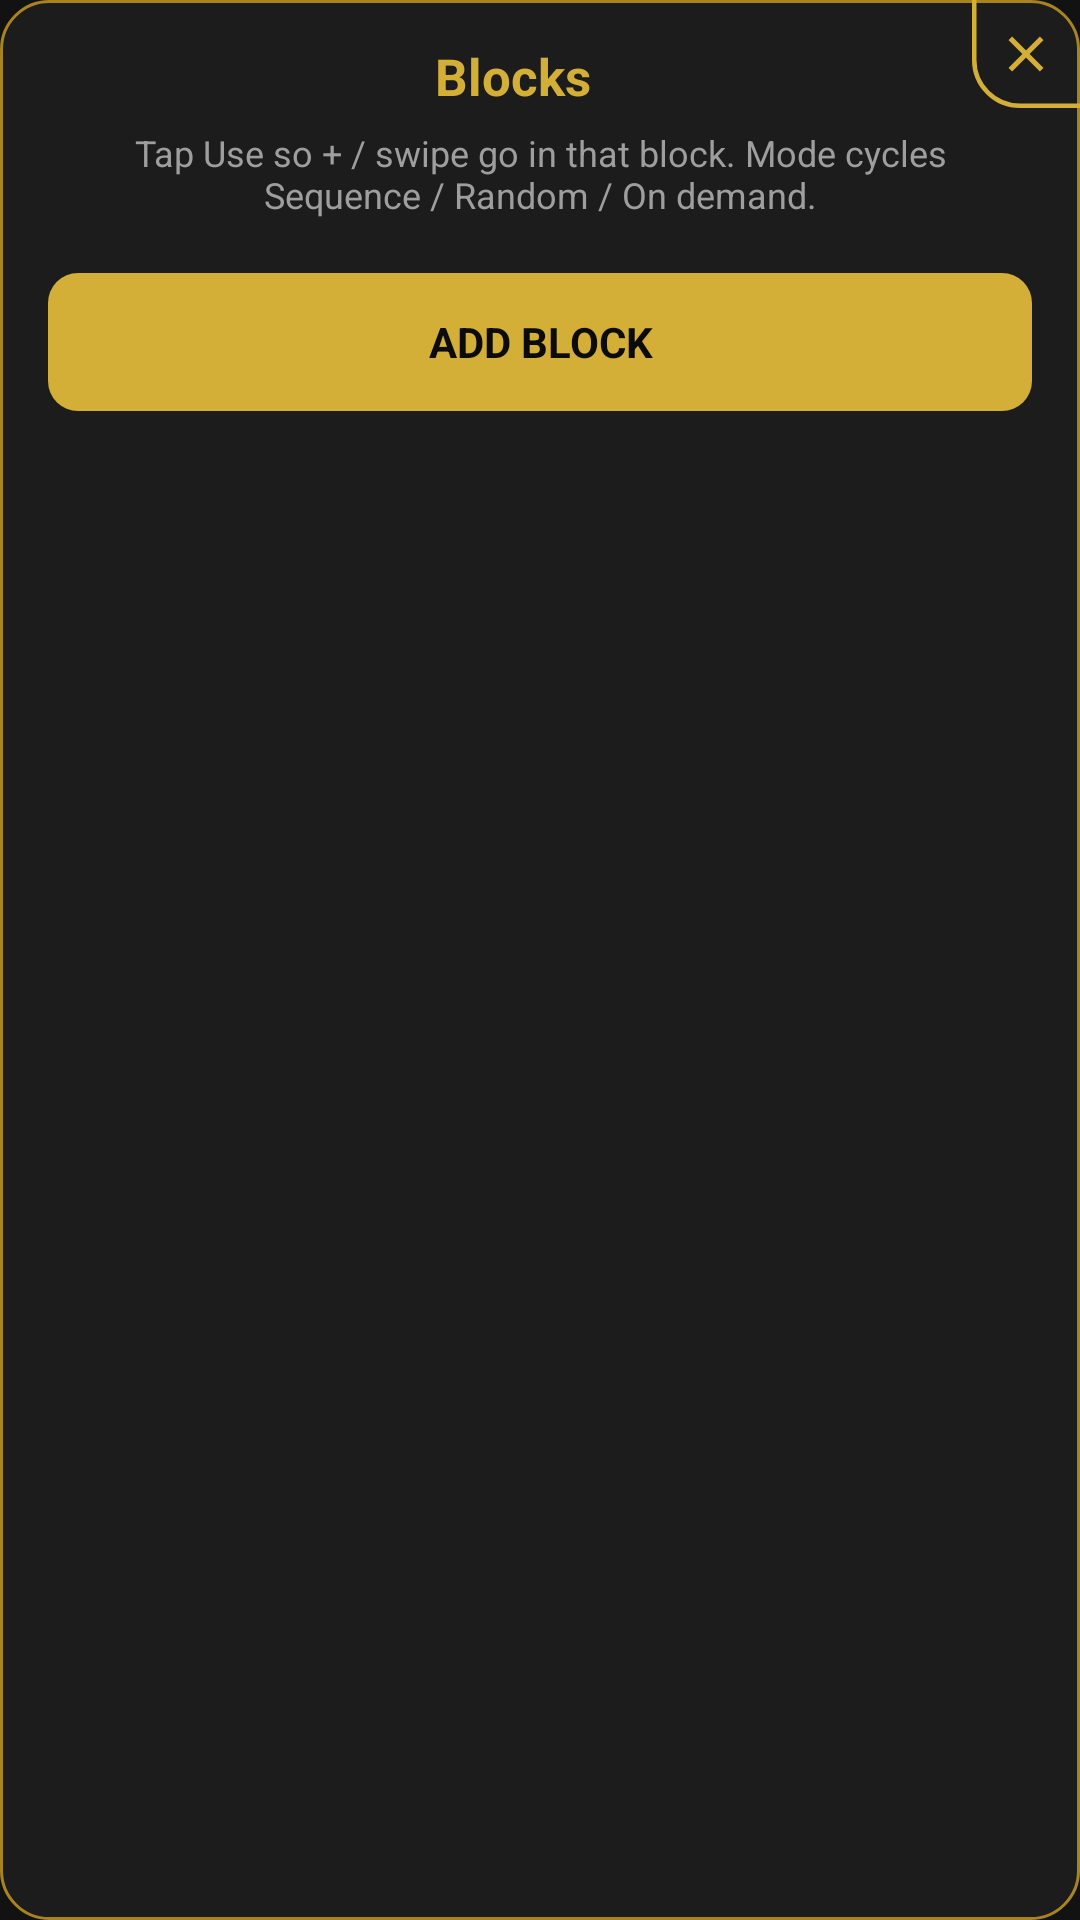

Named icons in this screenshot (1080x1920) and their centers, [x,y]:
Close: [1026,54]
